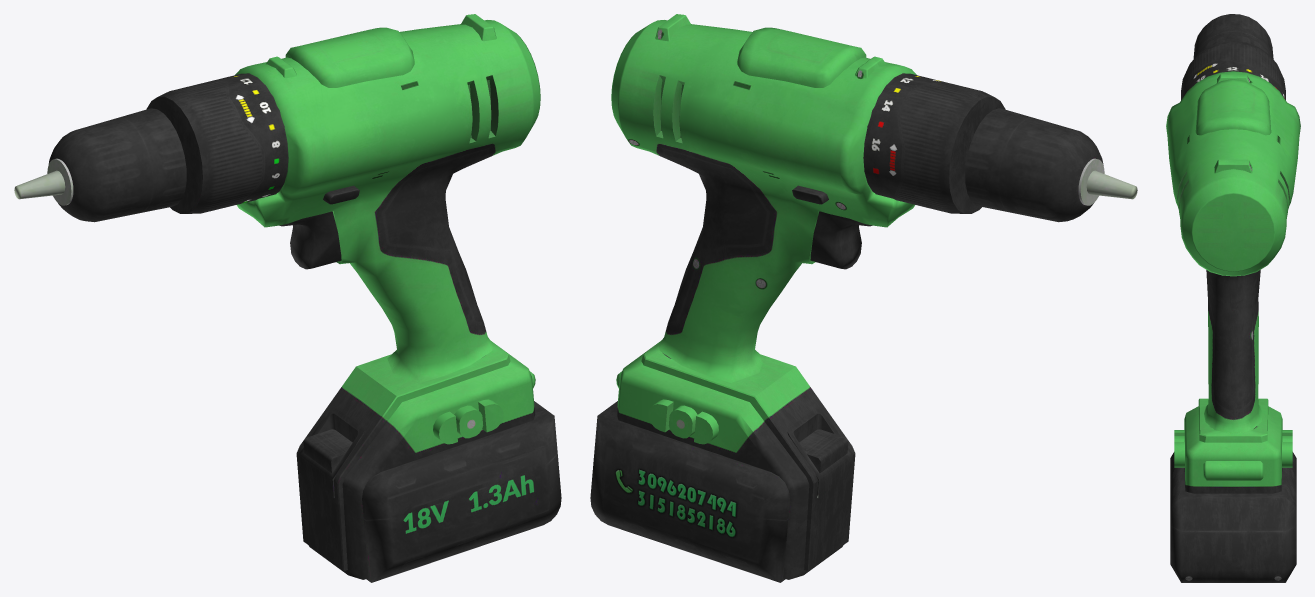
File: drill.glb
3 views of the same model, side by side, from view 1: azimuth 30°, elevation 25°; view 2: azimuth 150°, elevation 25°; view 3: azimuth 270°, elevation 25° (orthographic). The views are drawn at different scales.
Parts seen in each view (by area): view 1: polySurface1; view 2: polySurface1; view 3: polySurface1.
Part boxes in pixels (left/top/right/bottom): polySurface1: left=14, top=14, right=561, bottom=582; polySurface1: left=590, top=14, right=1137, bottom=582; polySurface1: left=1166, top=14, right=1300, bottom=582.
Bounding box in the file's own units: 16.9 × 16.33 × 4.63.
Materials: 1 (1 with a texture image).
